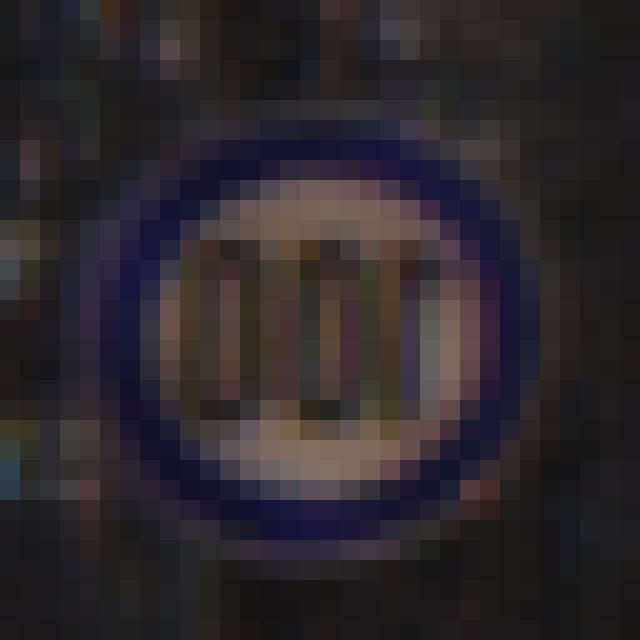SPEED LIMIT 100: (87, 119, 555, 572)
